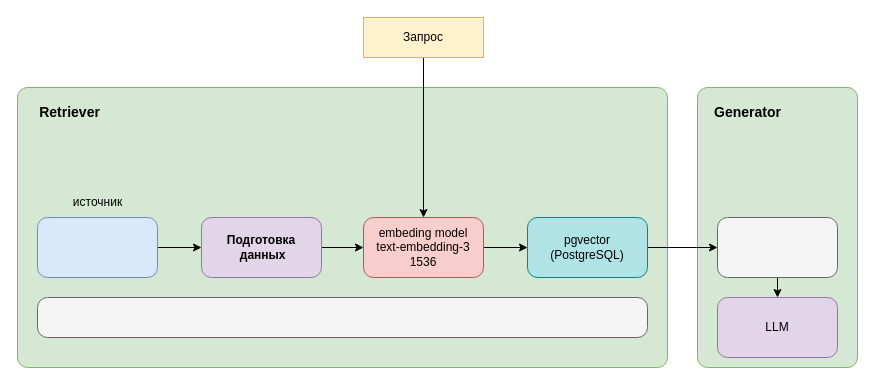
Image size: 875x385. Some labels were removed from this diagram. The centre of each missing label's shape, as x and y in pixels:
PostgreSQL: point (97, 247)
Генерация промпта: point (777, 247)
Движок оркестрации: langChain: point (342, 317)
